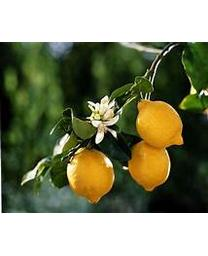lemon: (67, 147, 113, 204), (130, 136, 171, 192), (137, 100, 184, 148)
